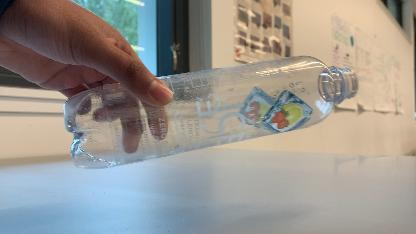Plastic Bottle: (62, 53, 360, 174)
